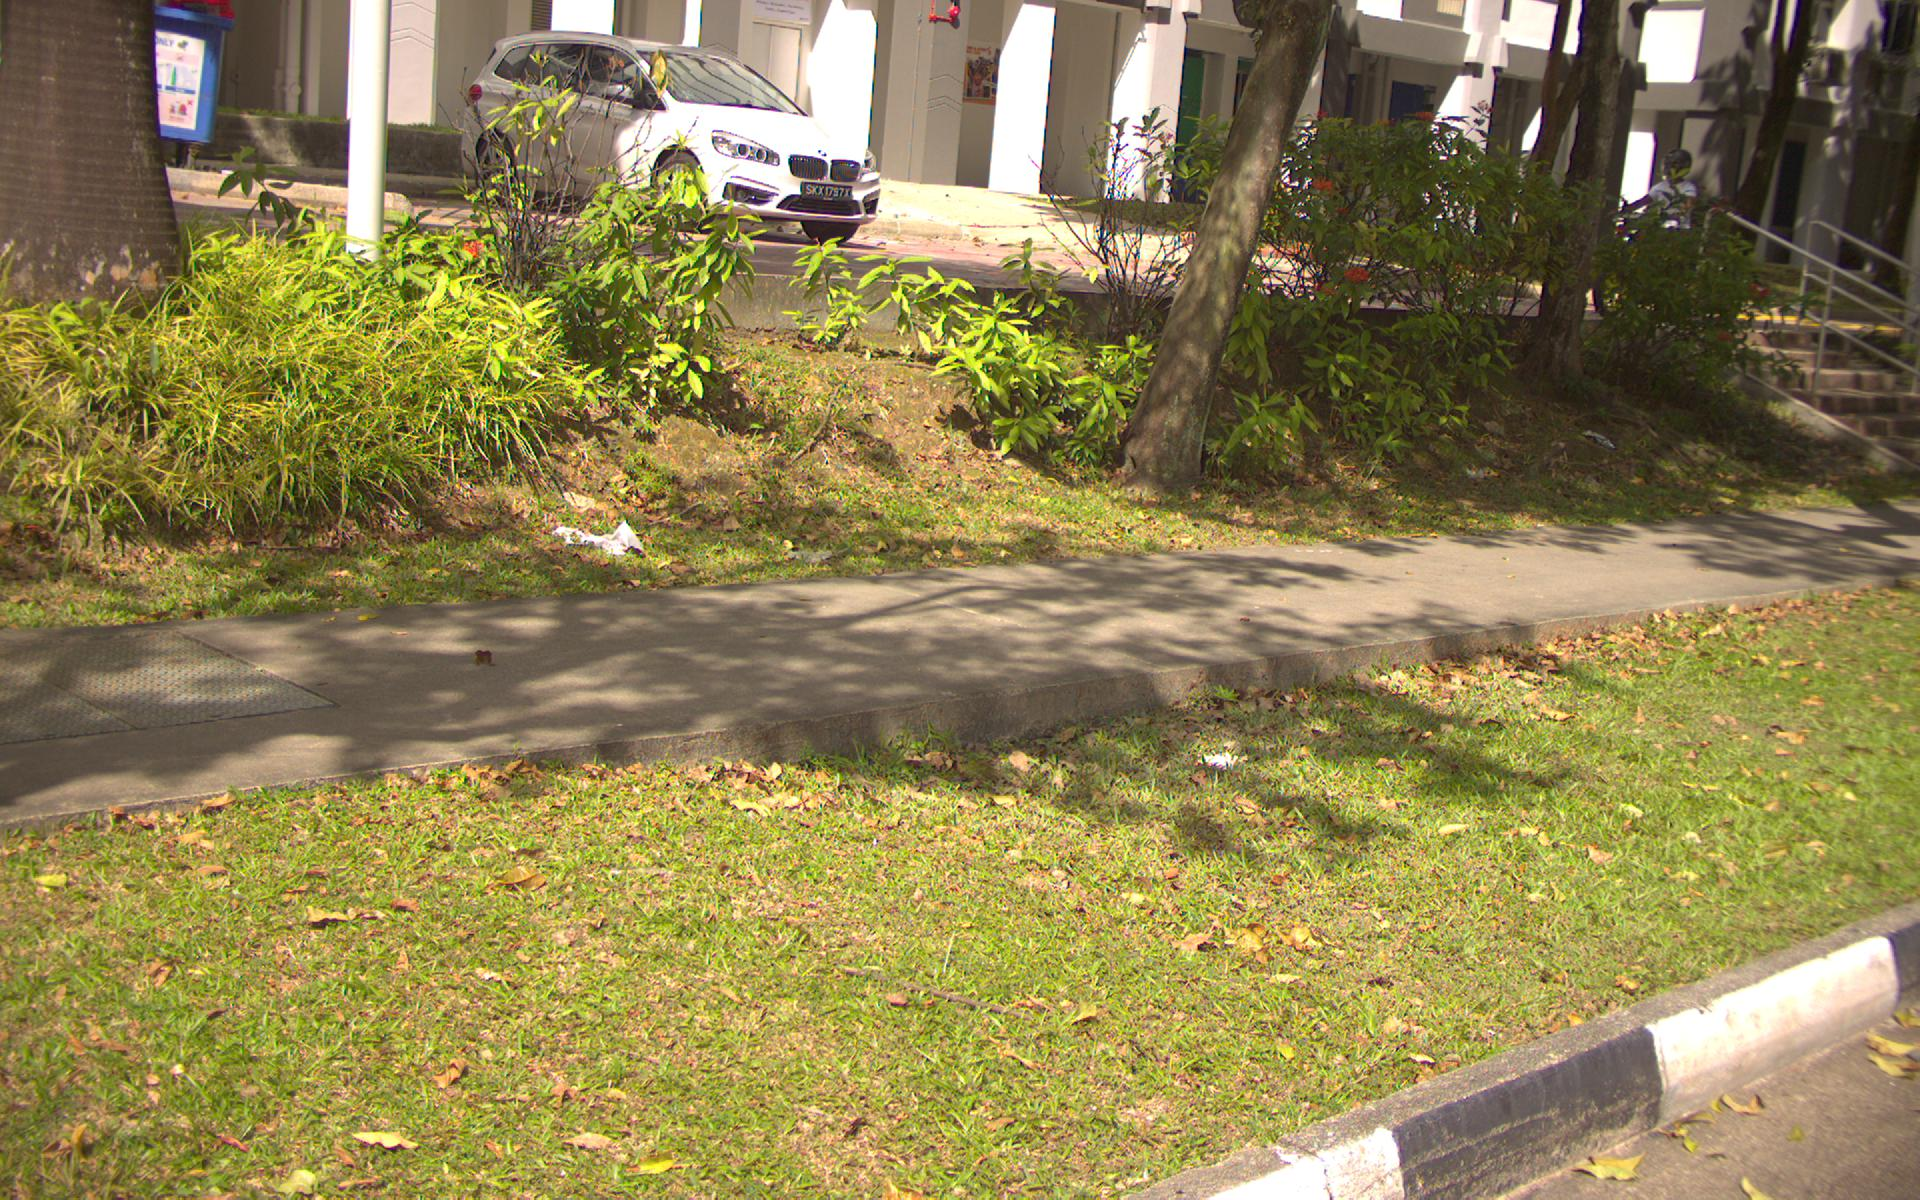pathway_low: (319, 624, 885, 735)
road_turf_low: (119, 810, 1136, 1182), (1215, 704, 1920, 901)
